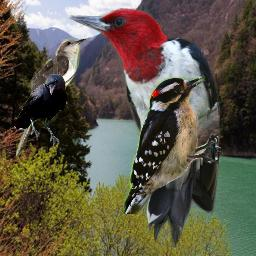Crow: (14, 74, 67, 147)
Cuckoo: (16, 38, 86, 156)
Woodpecker: (69, 7, 220, 248), (123, 76, 221, 214)
